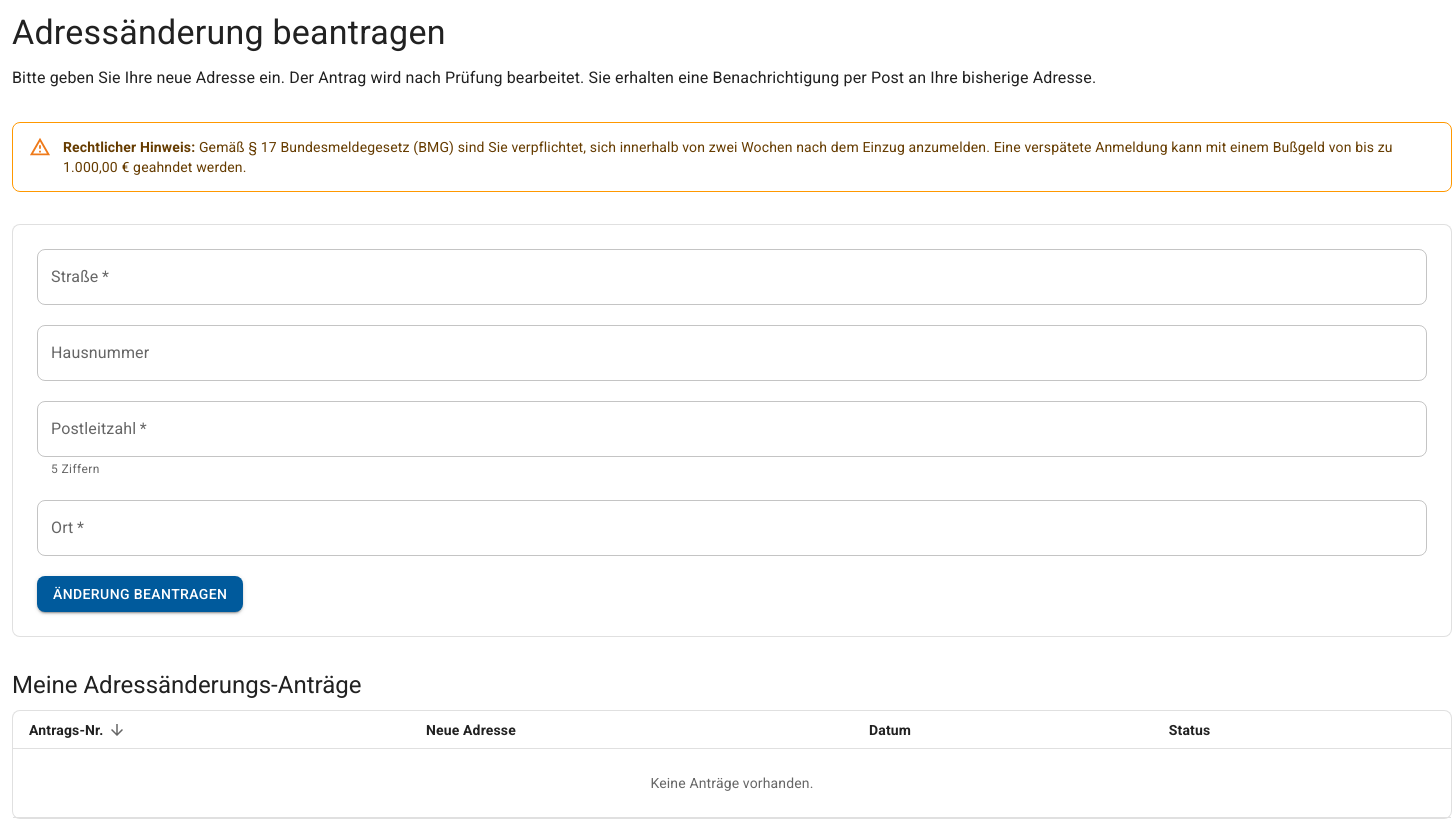
it: AddressChangePage › submits the trimmed address and shows the application number
Type " Hauptstraße " into the field labelled "Straße *" at [732, 277], box top-left (37, 249), bottom-right (1427, 305)
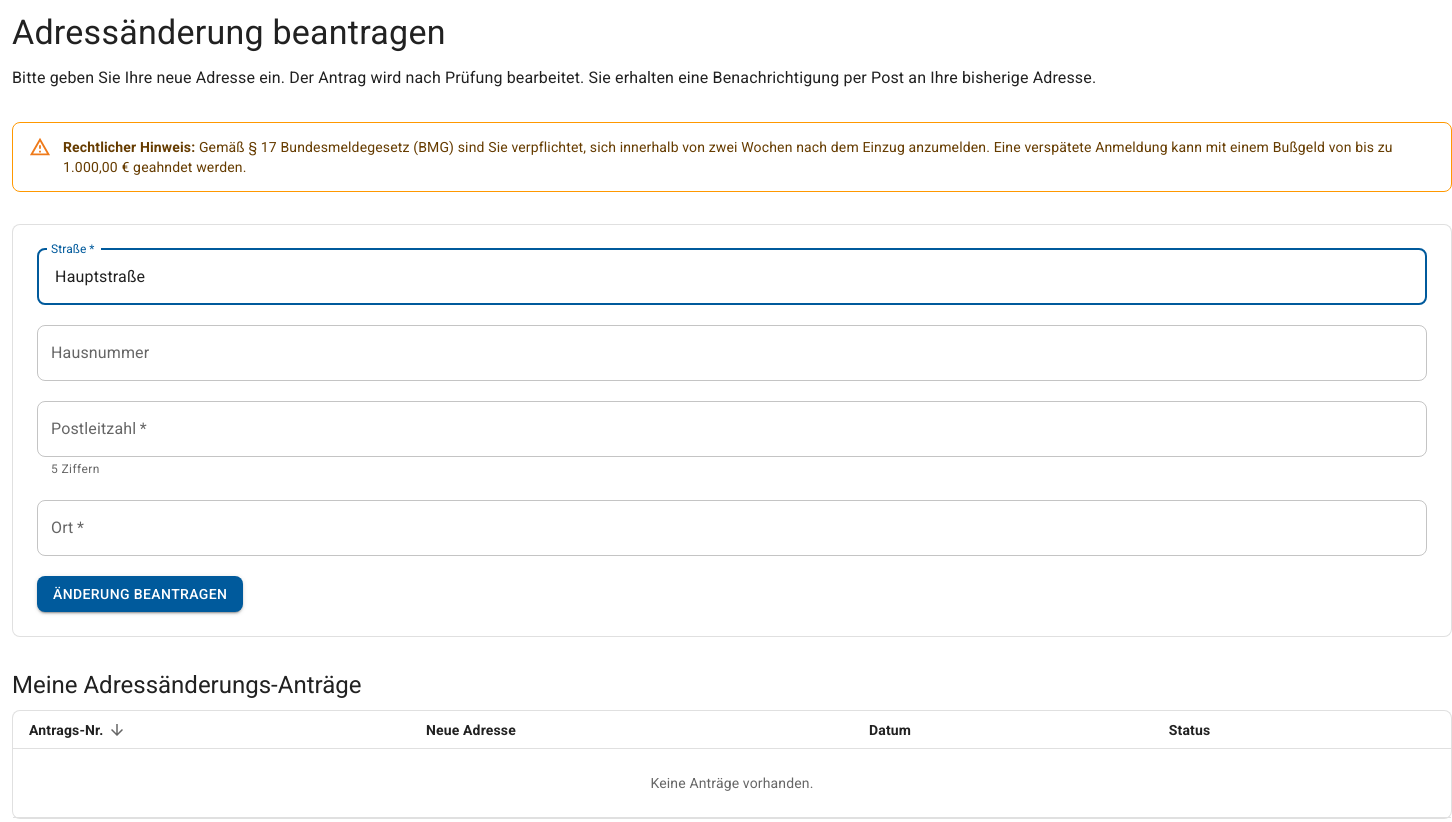
Type "5" into the field labelled "Hausnummer" at [732, 353], box top-left (37, 325), bottom-right (1427, 381)
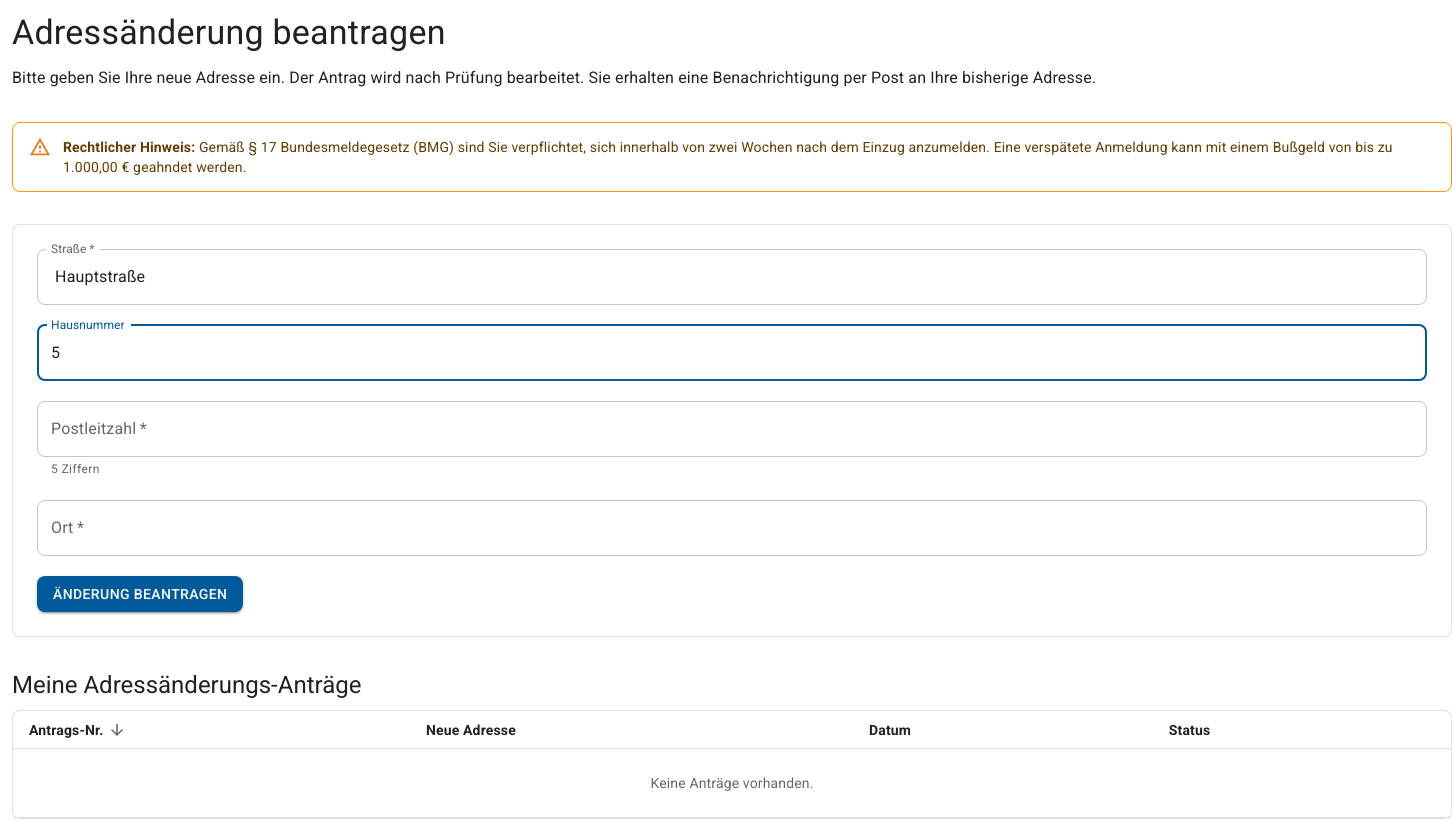
Type "80331" into the field labelled "Postleitzahl *" at [732, 429], box top-left (37, 401), bottom-right (1427, 457)
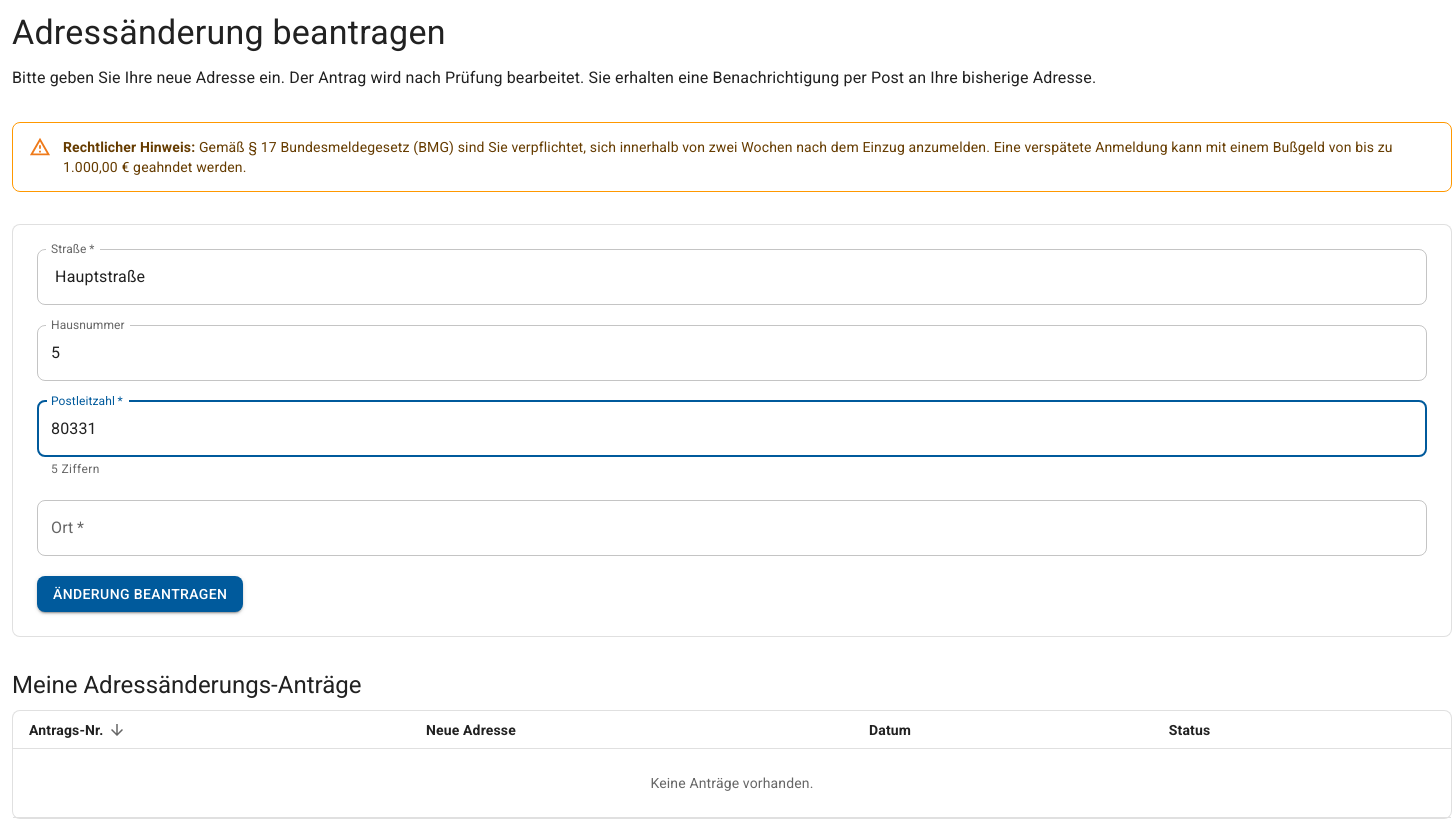
Type "Musterstadt" into the field labelled "Ort *" at [732, 528], box top-left (37, 500), bottom-right (1427, 556)
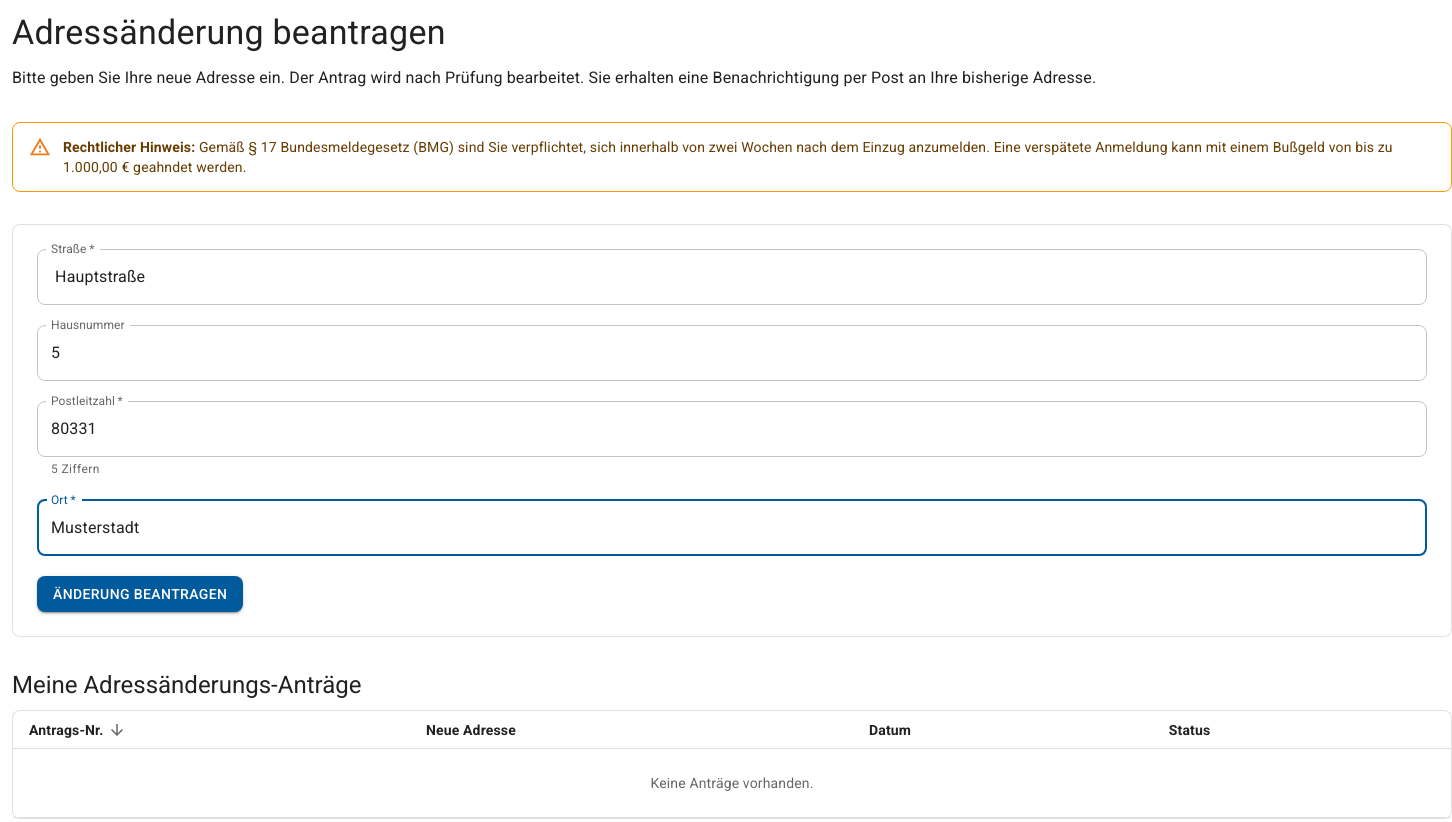
Click the button "Änderung beantragen" at [140, 594], box top-left (37, 576), bottom-right (244, 612)
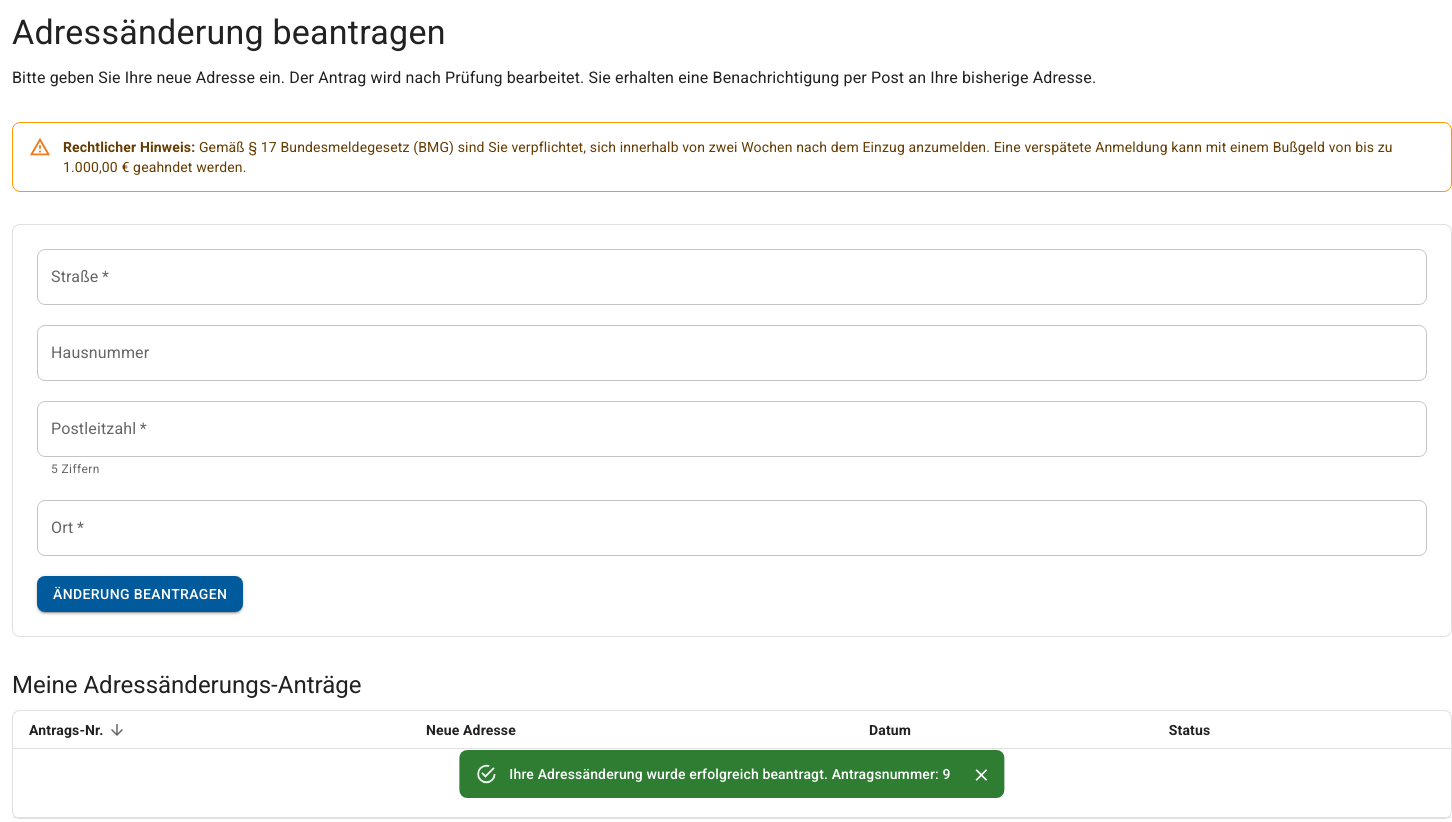
Check: the text "Antragsnummer: 9" is shown, box top-left (509, 766), bottom-right (951, 782)
